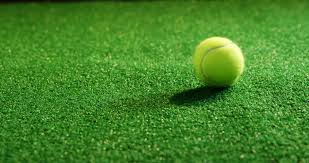tennis_ball: (193, 35, 244, 88)
